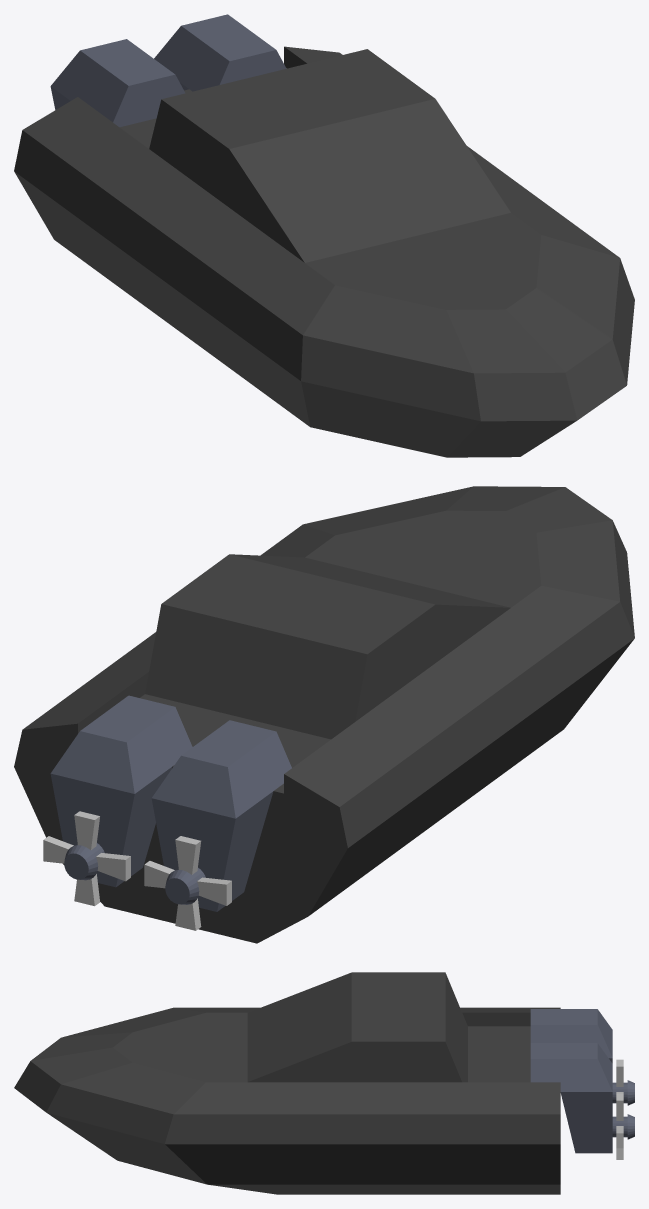
Rendered from watercraftpack_021.glb.
3 renders of one model, top to bottom at view 1: azimuth 30°, elevation 25°; view 2: azimuth 150°, elevation 25°; view 3: azimuth 270°, elevation 25°, orthographic. The views are drawn at different scales.
Visible parts, largest first — view 1: Mesh1 Group2 Group1 Model, Mesh2 Group3 Group1 Model, Mesh4 Group5 Group1 Model; view 2: Mesh1 Group2 Group1 Model, Mesh2 Group3 Group1 Model, Mesh4 Group5 Group1 Model, Mesh5 Group6 Group1 Model, Mesh3 Group4 Group1 Model; view 3: Mesh1 Group2 Group1 Model, Mesh4 Group5 Group1 Model, Mesh2 Group3 Group1 Model, Mesh3 Group4 Group1 Model.
Part boxes in pixels (box(x1,y1,x2,y2)): Mesh1 Group2 Group1 Model: box(14, 46, 634, 457); Mesh2 Group3 Group1 Model: box(50, 39, 185, 127); Mesh4 Group5 Group1 Model: box(154, 14, 286, 91); Mesh1 Group2 Group1 Model: box(14, 486, 634, 943); Mesh2 Group3 Group1 Model: box(151, 720, 291, 911); Mesh4 Group5 Group1 Model: box(50, 695, 192, 887); Mesh5 Group6 Group1 Model: box(144, 836, 231, 930); Mesh3 Group4 Group1 Model: box(43, 811, 130, 906); Mesh1 Group2 Group1 Model: box(14, 972, 560, 1194); Mesh4 Group5 Group1 Model: box(530, 1043, 634, 1153); Mesh2 Group3 Group1 Model: box(530, 1009, 634, 1105); Mesh3 Group4 Group1 Model: box(616, 1093, 623, 1159).
Bounding box in the file's own units: 1.78 × 1.2 × 4.17.
